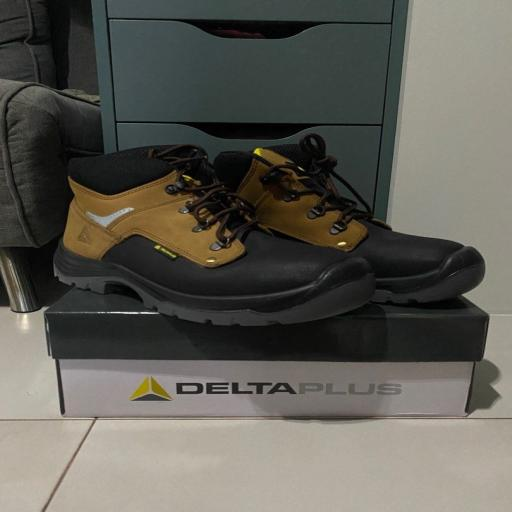safety_boots: (60, 158, 344, 320), (250, 138, 492, 306)
